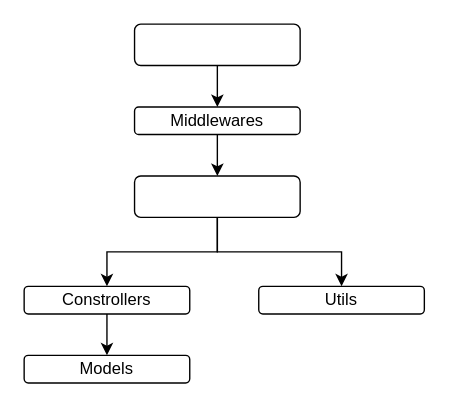
This 449x407 diagram has some shape labels left out. Each missing label, with the box of its shape:
Controller: (133, 175, 300, 217)
Rotas: (133, 23, 300, 66)
